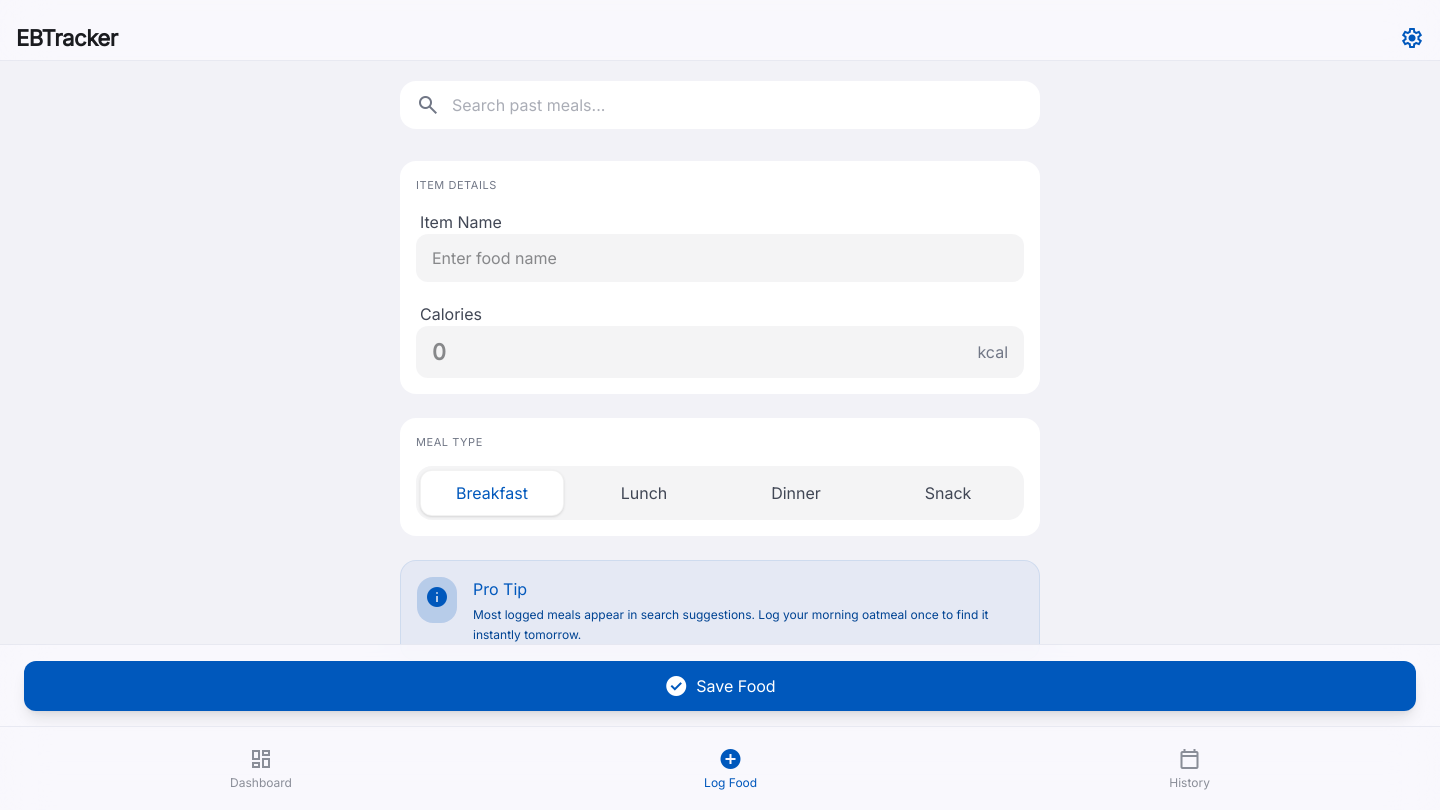
Test: LogMeal Component › shows matched mock suggestions and the manual entry option when typing
In the field with placeholder "Search past meals...": [738, 105] box left=452, top=93, right=1024, bottom=117, type "Oat"
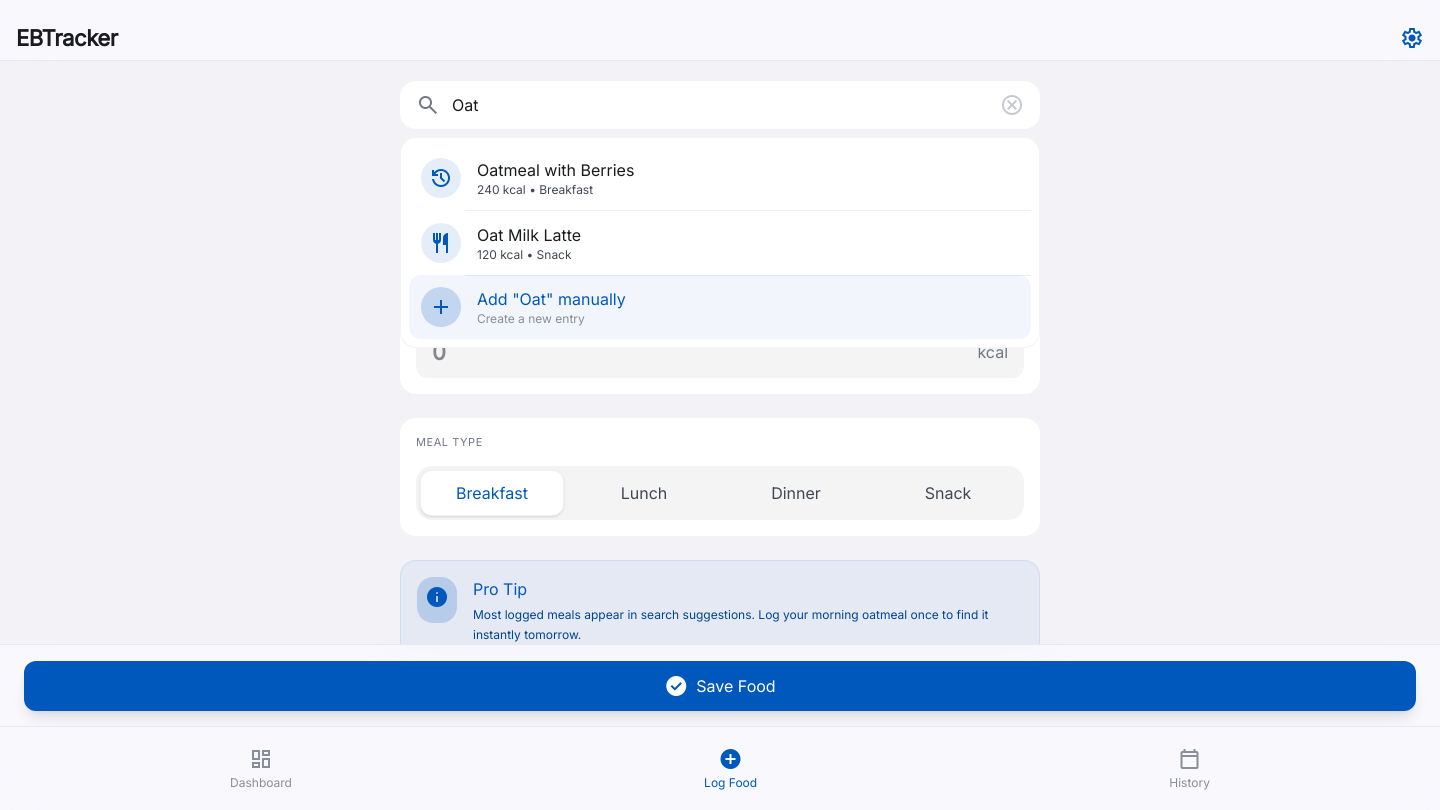
Now the text "Oatmeal with Berries" is shown, box left=477, top=158, right=634, bottom=182
Now the text "Oat Milk Latte" is shown, box left=477, top=222, right=581, bottom=246
Now the text "Add \"Oat\" manually" is shown, box left=477, top=287, right=626, bottom=311
